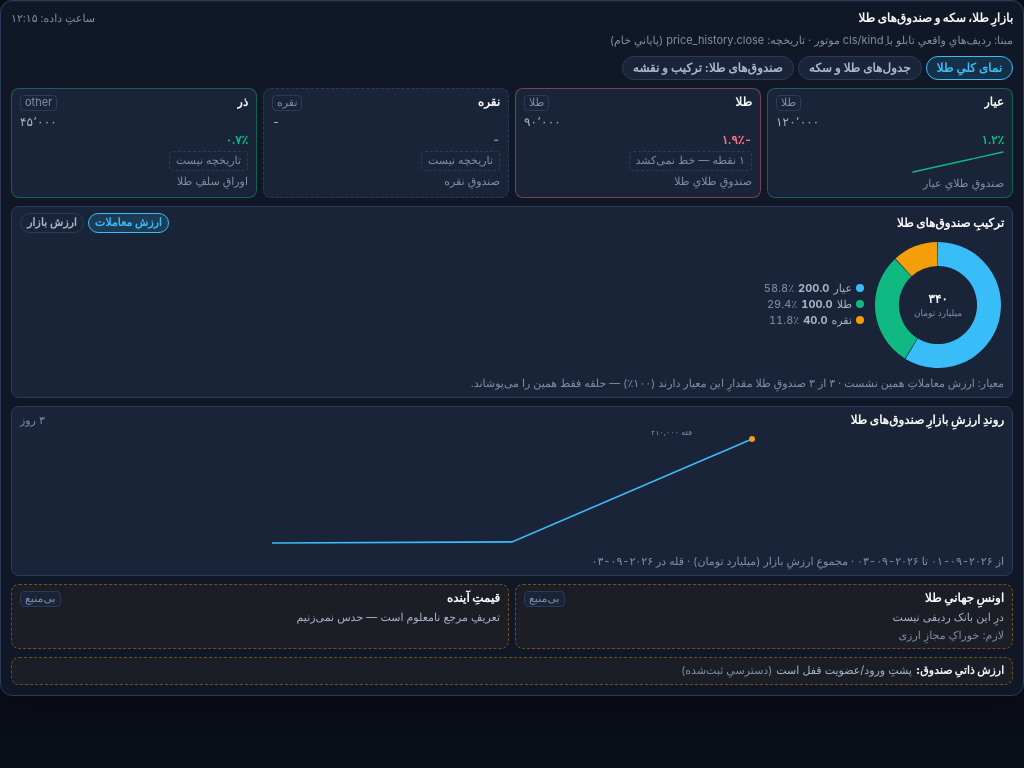
Scenario: طلا، سکه و صندوق‌های طلا (صفحاتِ ۱/۳/۱۰/۱۱/۱۲) › صفحۀ ۱۲ دو نمایِ مستقل دارد: حلقۀ ترکیب و نقشۀ قفل‌شده رویِ صندوقِ طلا
Expected: the element with test id "ms-gold-cards" is shown, left=11, top=88, right=1013, bottom=198
Step 1. Click the tab with test id "ms-gold-tab-funds" → coordinates (708, 68), box left=622, top=56, right=794, bottom=80
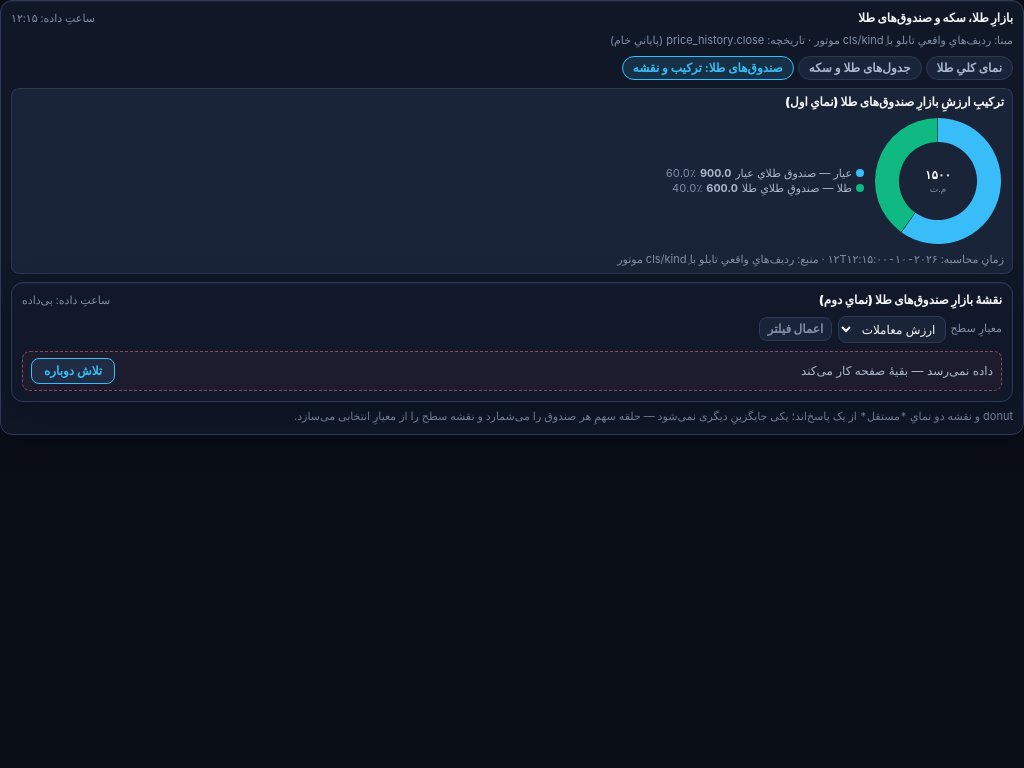
Expected: the element with test id "ms-gold-funds-donut" is shown, left=666, top=115, right=1004, bottom=247
Expected: the text with test id "ms-gold-funds-independent" is shown, left=294, top=409, right=1013, bottom=423
Expected: the element with test id "ms-gold-treemap" is shown, left=11, top=282, right=1013, bottom=402
